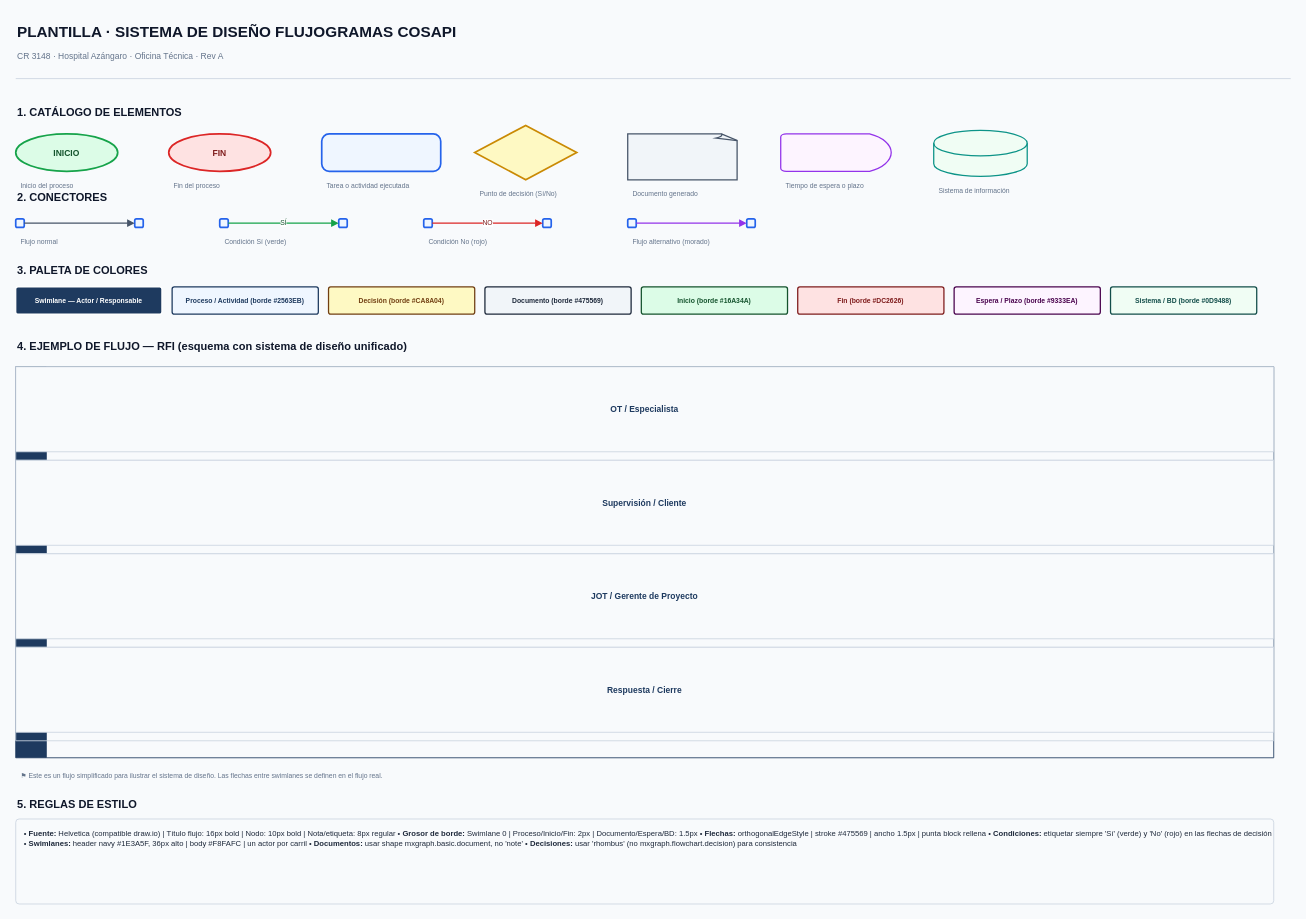
This 1306x919 diagram has some shape labels left out. The box of each missing label's shape, as (x1, y1, x2, y2) in pixels:
Aconex / Sistema: (933, 129, 1027, 177)
Actividad / Proceso: (320, 133, 441, 172)
Documento / Entregable: (627, 133, 738, 180)
Espera / Plazo: (780, 133, 891, 172)
FLUJO RFI — Requerimiento de Información: (15, 366, 1274, 758)
¿Condición?: (473, 124, 577, 180)
